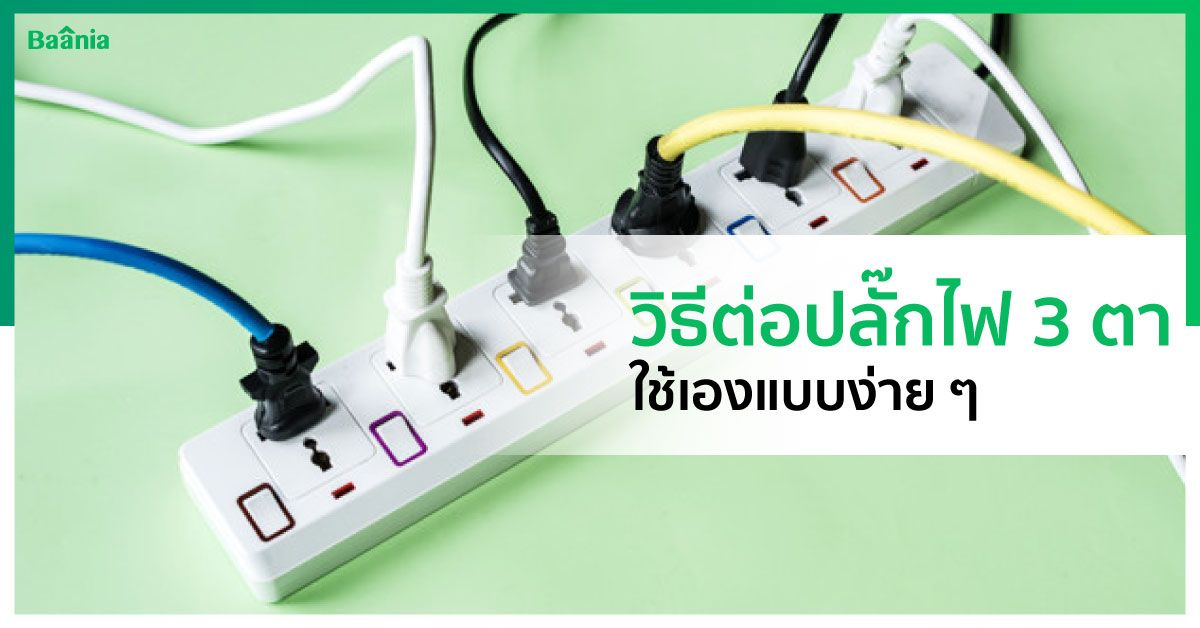Three_eye_plug: (171, 37, 1033, 610)
